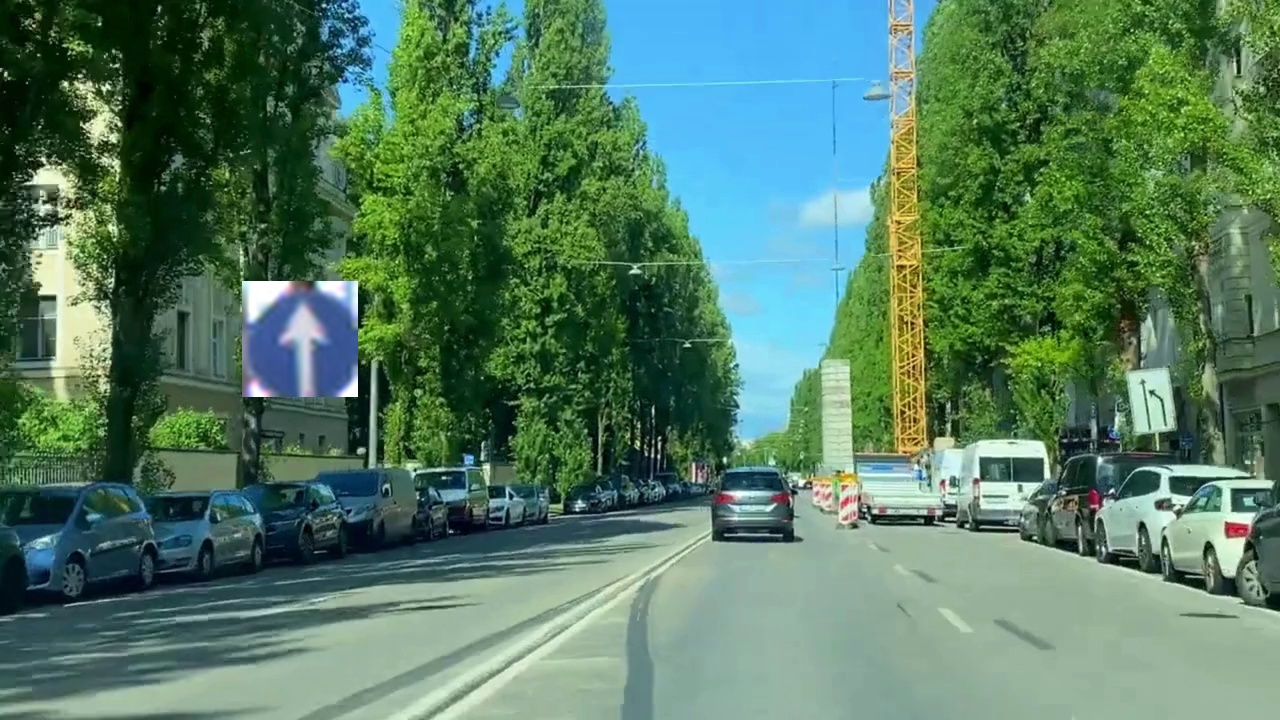Ahead only: (242, 281, 358, 397)
